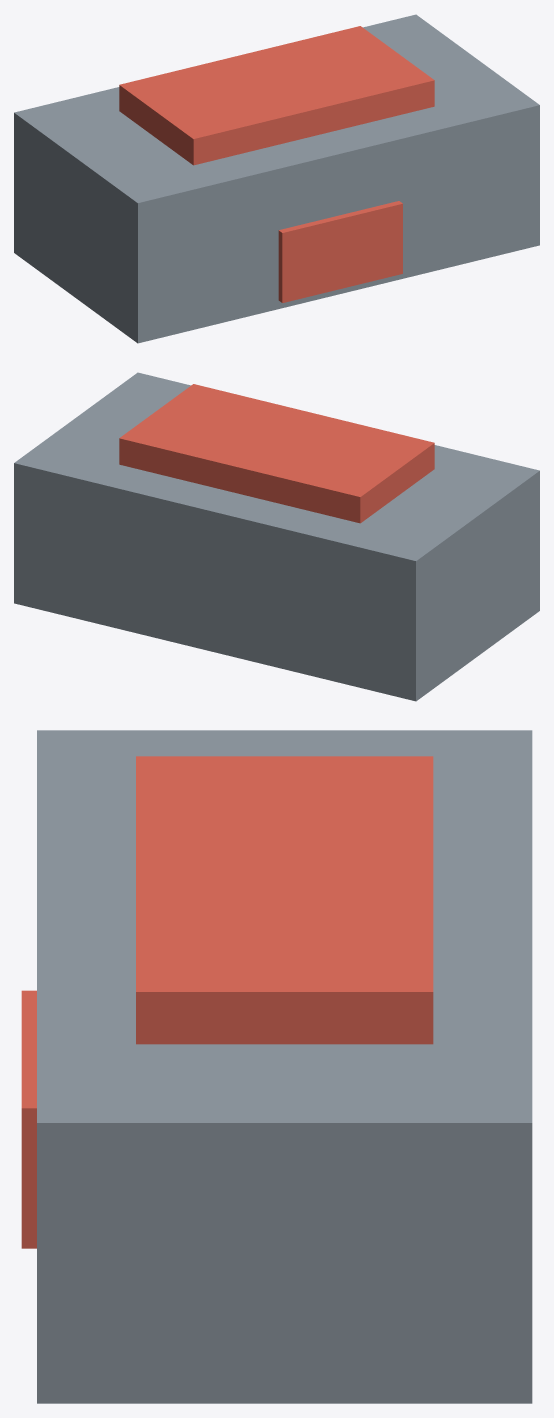
File: SU_ZarevoMLRS_LOD0.glb
The picture shows the model from 3 angles, top to bottom: view 1: azimuth 30°, elevation 25°; view 2: azimuth 150°, elevation 25°; view 3: azimuth 270°, elevation 25°; orthographic projection. The views are drawn at different scales.
Visible parts, largest first — view 1: EntranceGate; view 2: EntranceGate; view 3: EntranceGate.
Part boxes in pixels (x1,y1,x2,y2): EntranceGate: [14, 14, 539, 343]; EntranceGate: [14, 372, 539, 701]; EntranceGate: [21, 730, 532, 1403].
Bounding box in the file's own units: 600 × 238 × 330.
